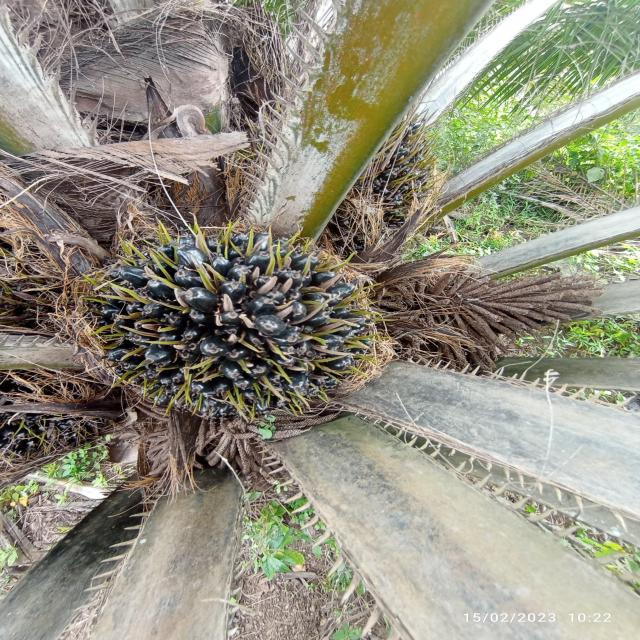fraksi 00: (81, 175, 405, 496)
